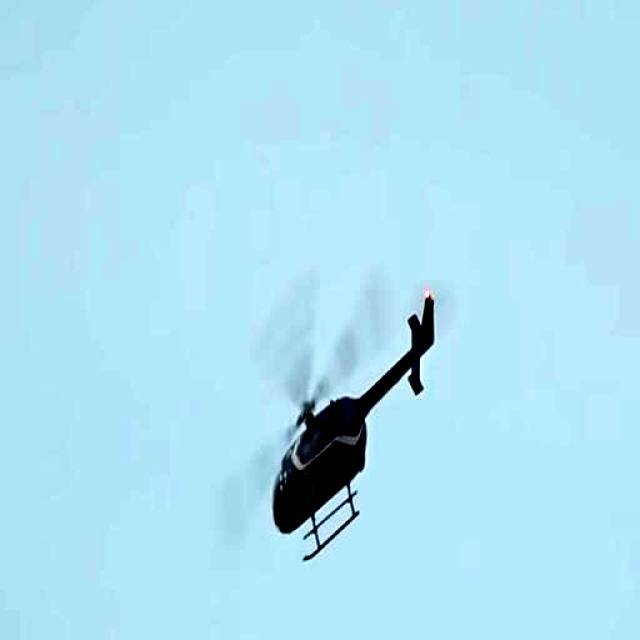drone: (251, 282, 456, 592)
